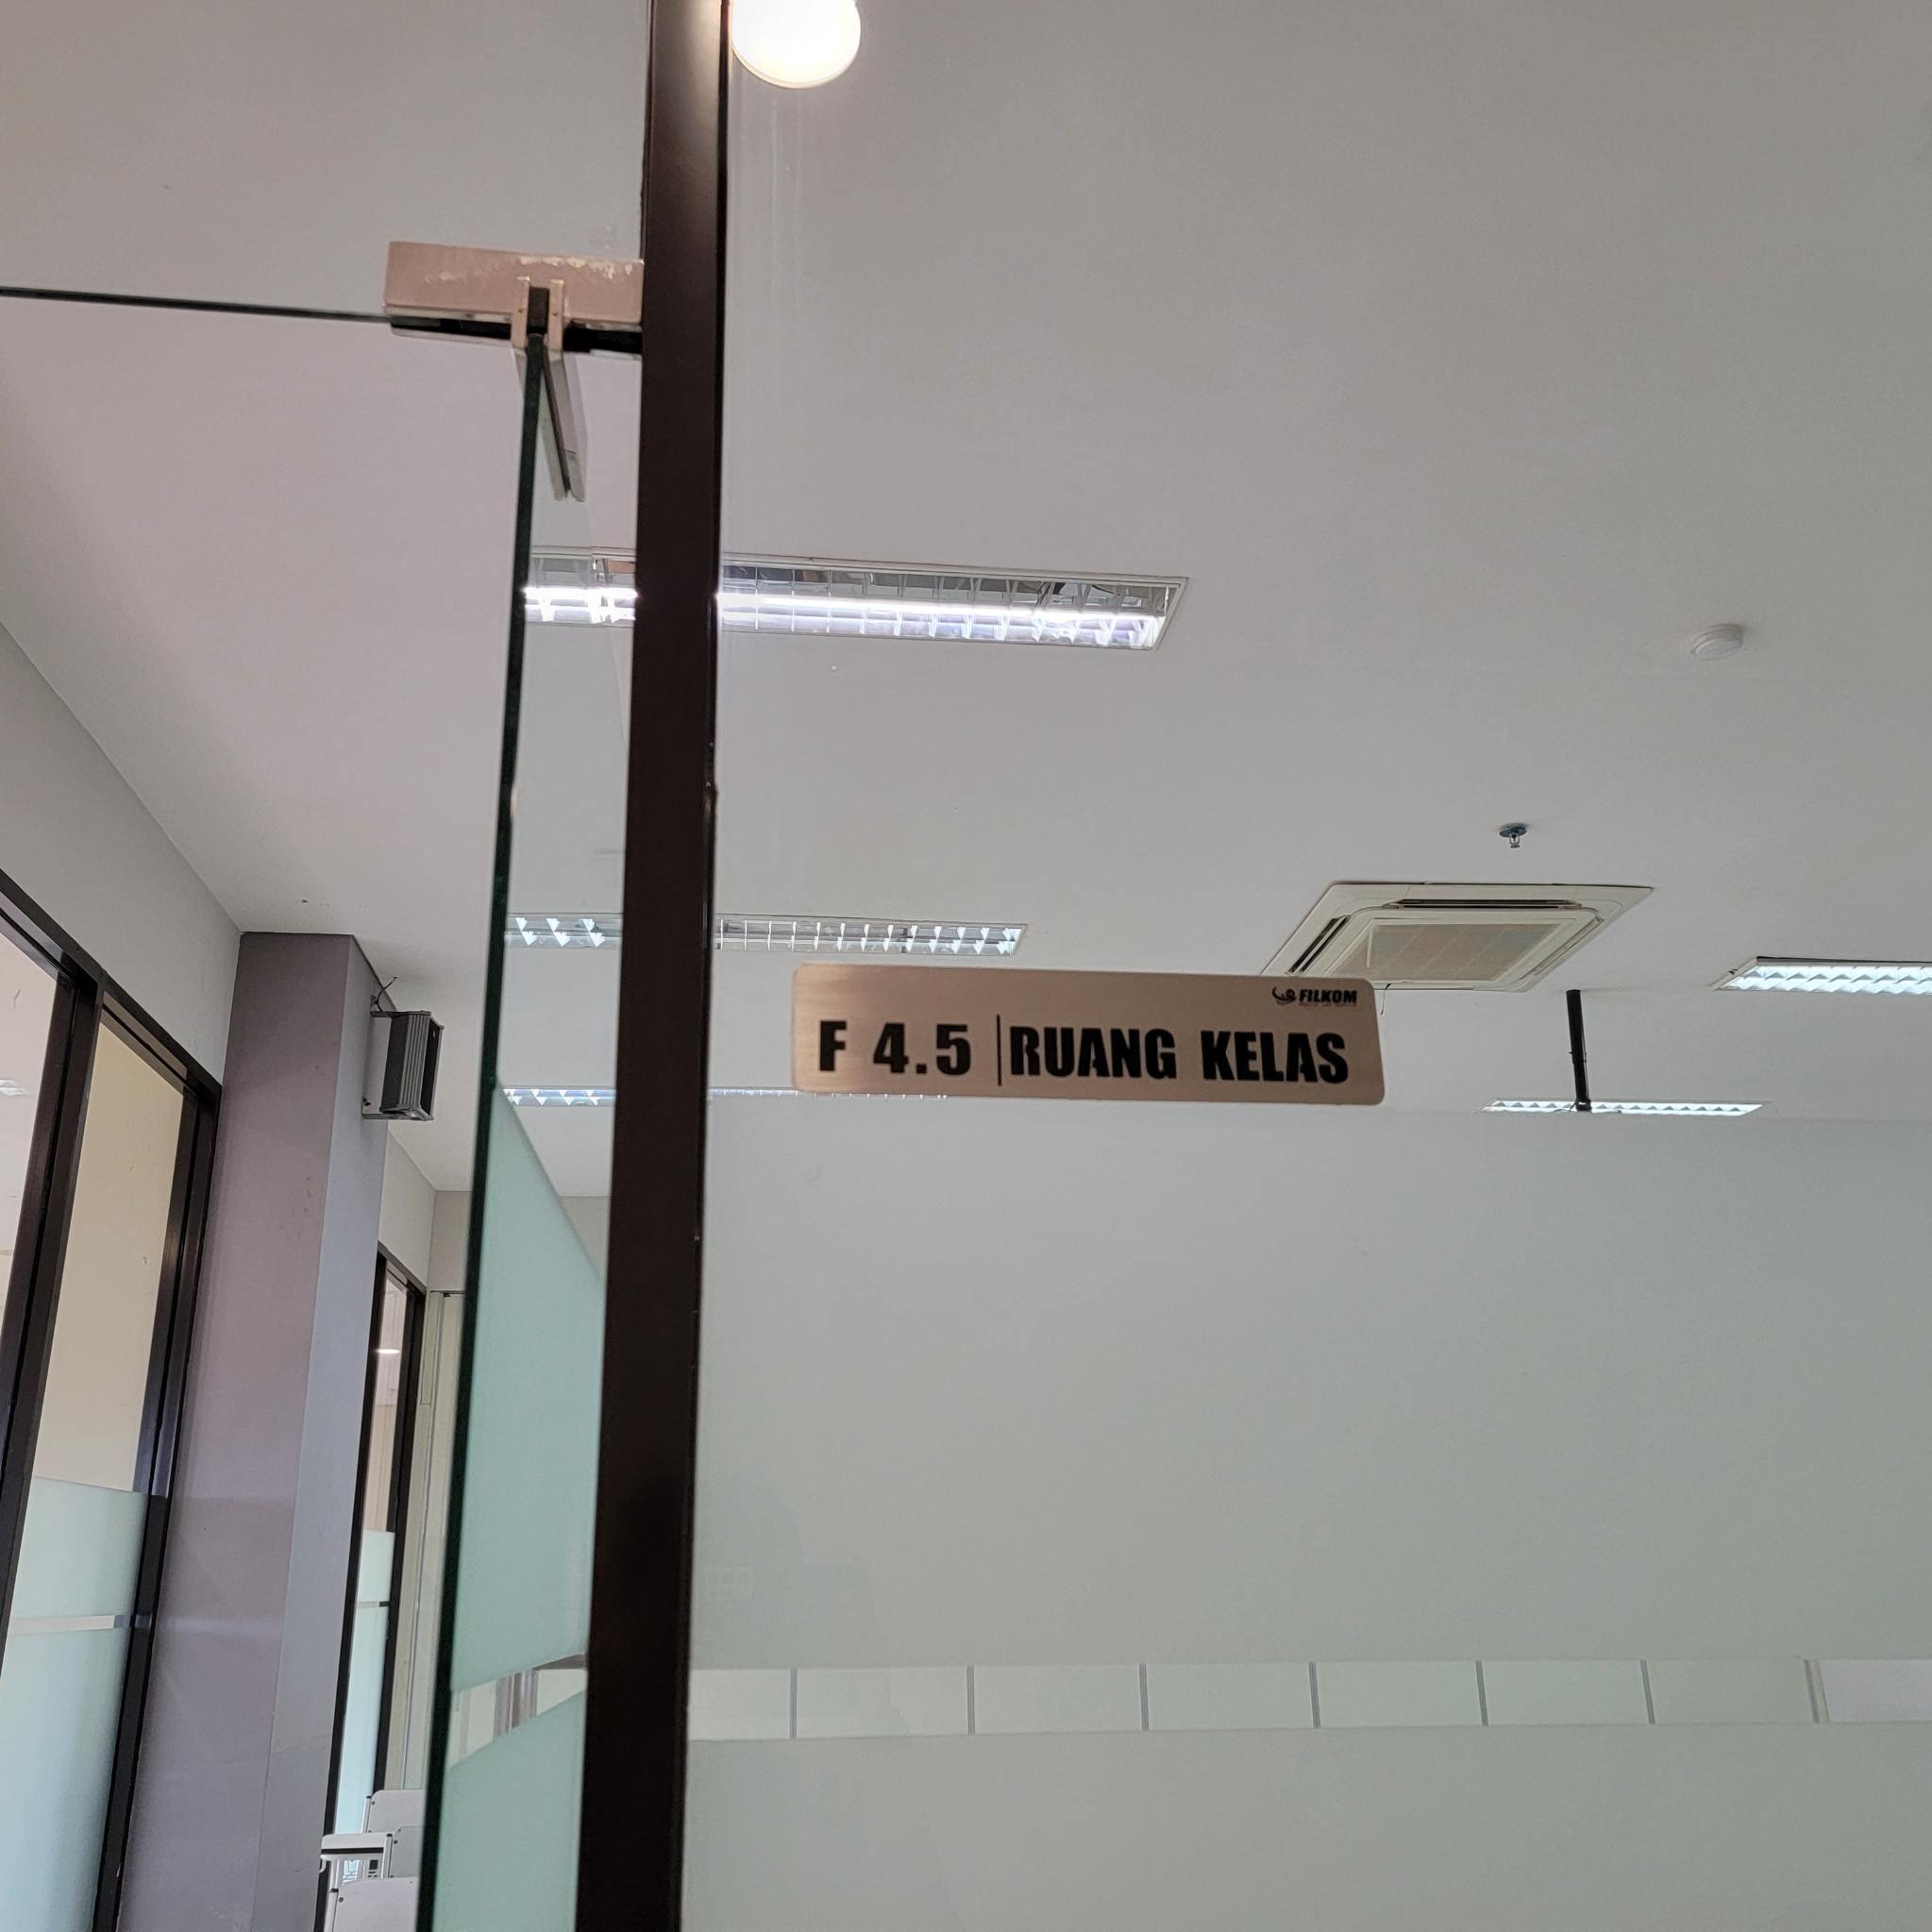plate: (791, 961, 1384, 1108)
